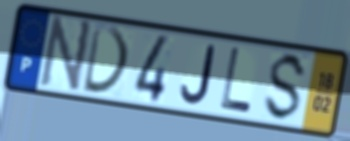4: (131, 33, 174, 106)
D: (80, 22, 133, 98)
J: (178, 43, 217, 107)
L: (218, 46, 254, 117)
N: (36, 14, 95, 97)
S: (261, 51, 310, 124)
